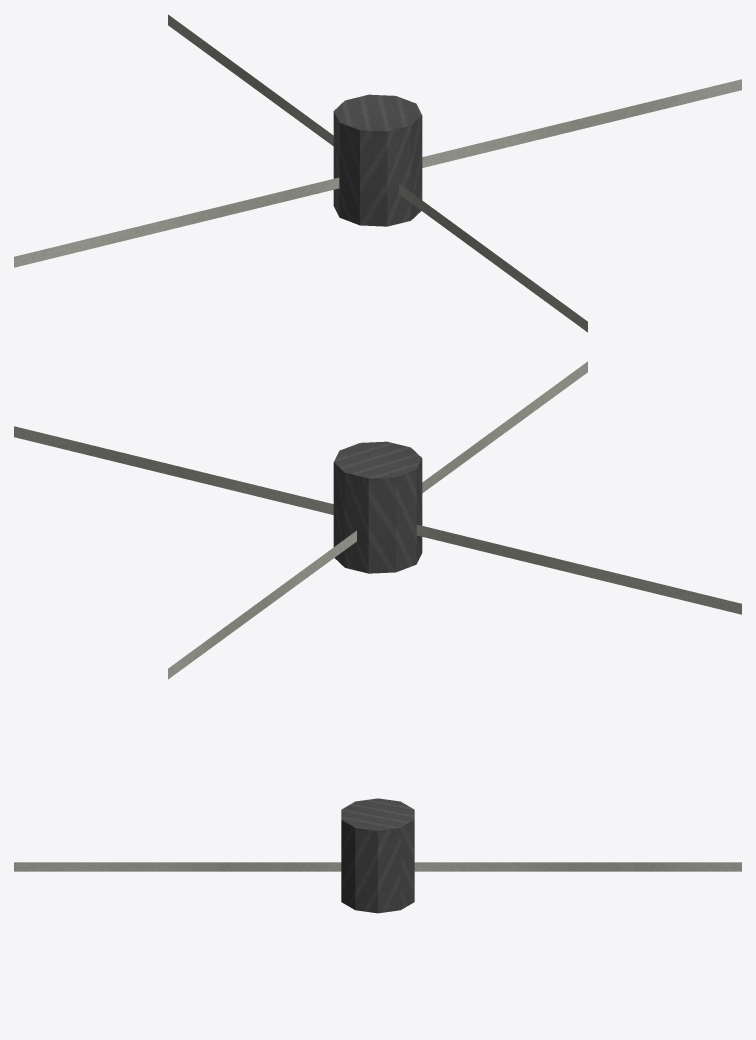
The model's file is ceilingfan_v3.glb.
3 renders of one model, top to bottom at view 1: azimuth 30°, elevation 25°; view 2: azimuth 150°, elevation 25°; view 3: azimuth 270°, elevation 25°, orthographic. The views are drawn at different scales.
Parts seen in each view (by area): view 1: Variant_ceilingfan_3; view 2: Variant_ceilingfan_3; view 3: Variant_ceilingfan_3.
Part boxes in pixels (x1,y1,x2,y2): Variant_ceilingfan_3: (14, 14, 741, 332); Variant_ceilingfan_3: (14, 361, 741, 679); Variant_ceilingfan_3: (14, 798, 741, 913).
Size of the model in its own units: 1.04 by 0.13 by 1.04.
Materials: 2 (2 with a texture image).
